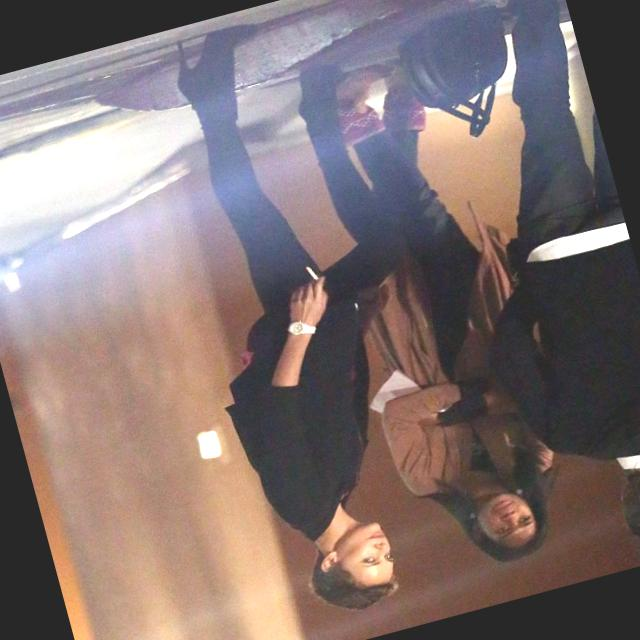smoke: (304, 264, 319, 282)
